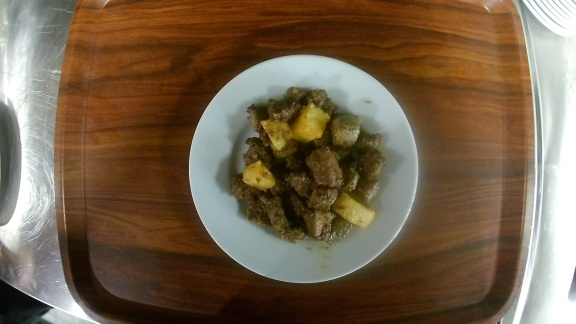arnavutcigeri: (187, 54, 420, 284)
